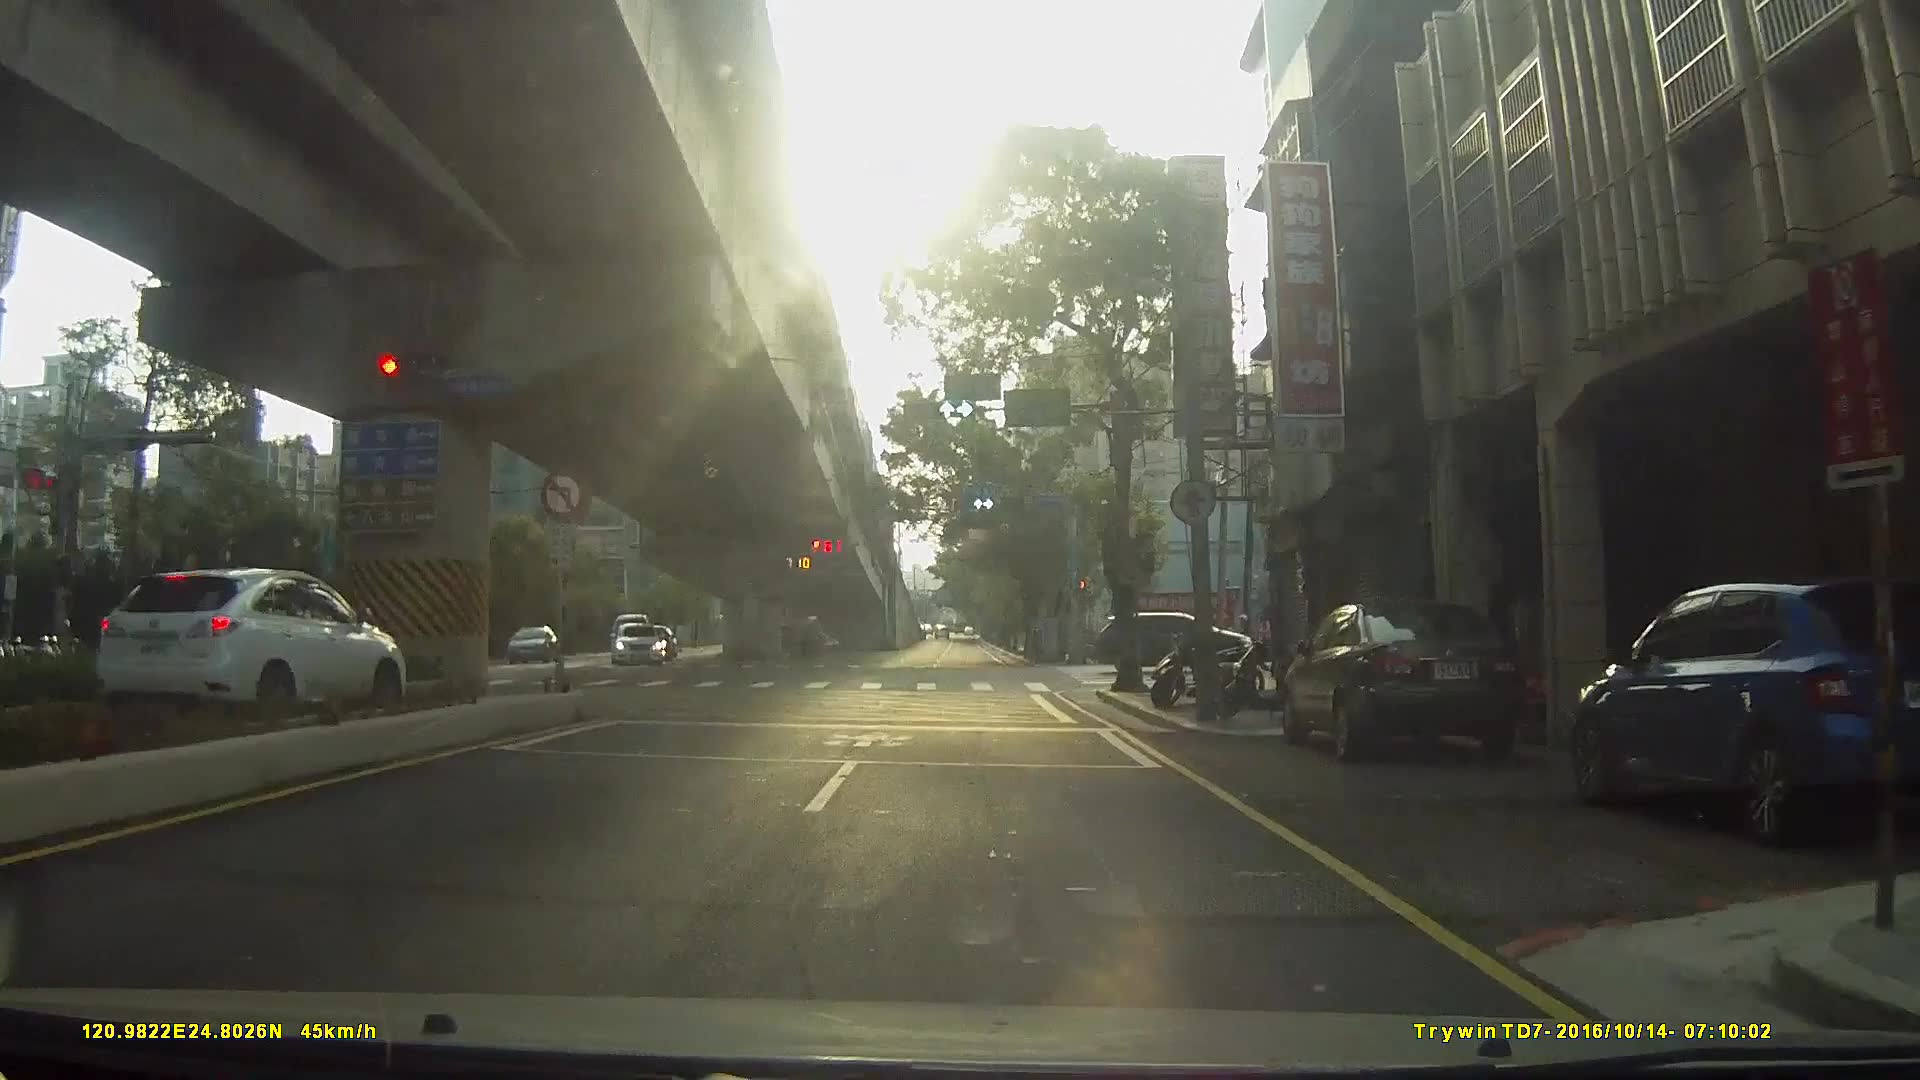vehicle: (1563, 571, 1920, 851), (87, 560, 411, 727), (1288, 599, 1542, 767), (1095, 611, 1269, 676), (609, 622, 661, 666), (502, 624, 555, 665)
